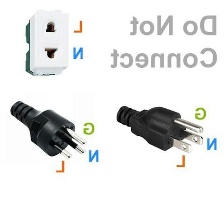three_eye_plug: (23, 4, 71, 79)
